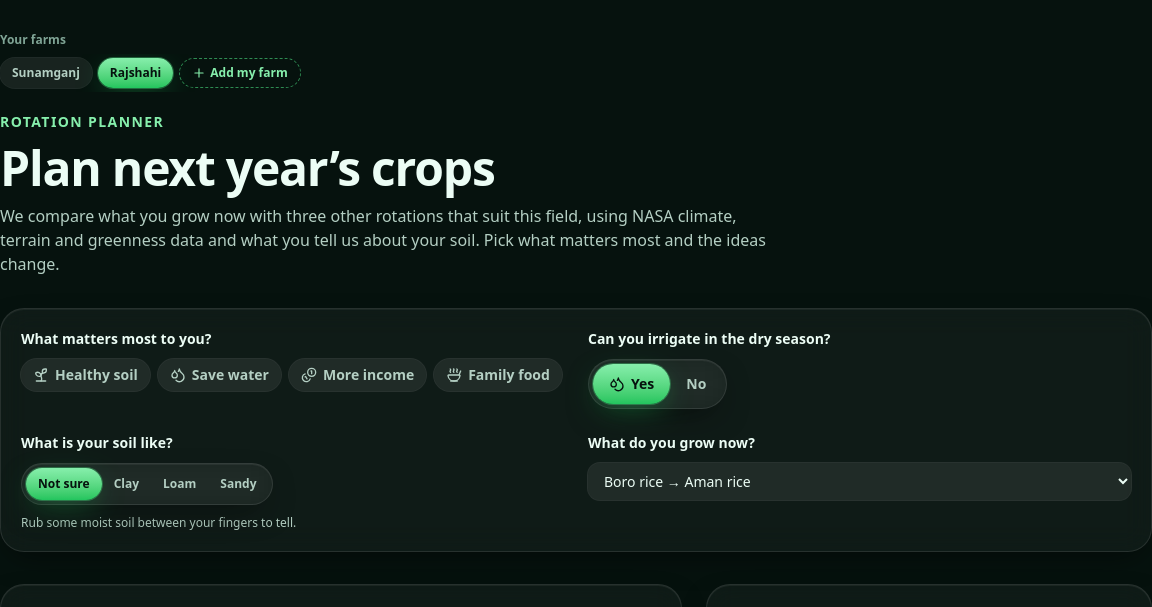
Test: RotationPage › priorities, irrigation and the current rotation each ask for new ideas
Click the button "More income": (358, 375) x1=289 y1=359 x2=426 y2=391
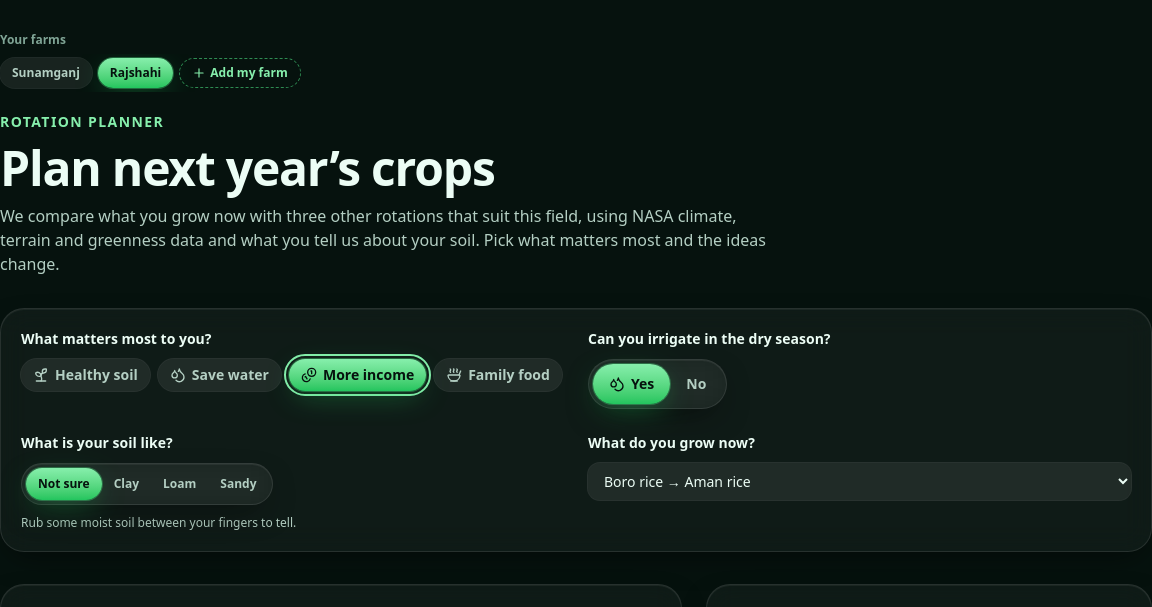
Now the button "More income" is pressed, box x1=289 y1=359 x2=426 y2=391
Click the radio button labelled "No": (696, 384) x1=670 y1=364 x2=722 y2=404
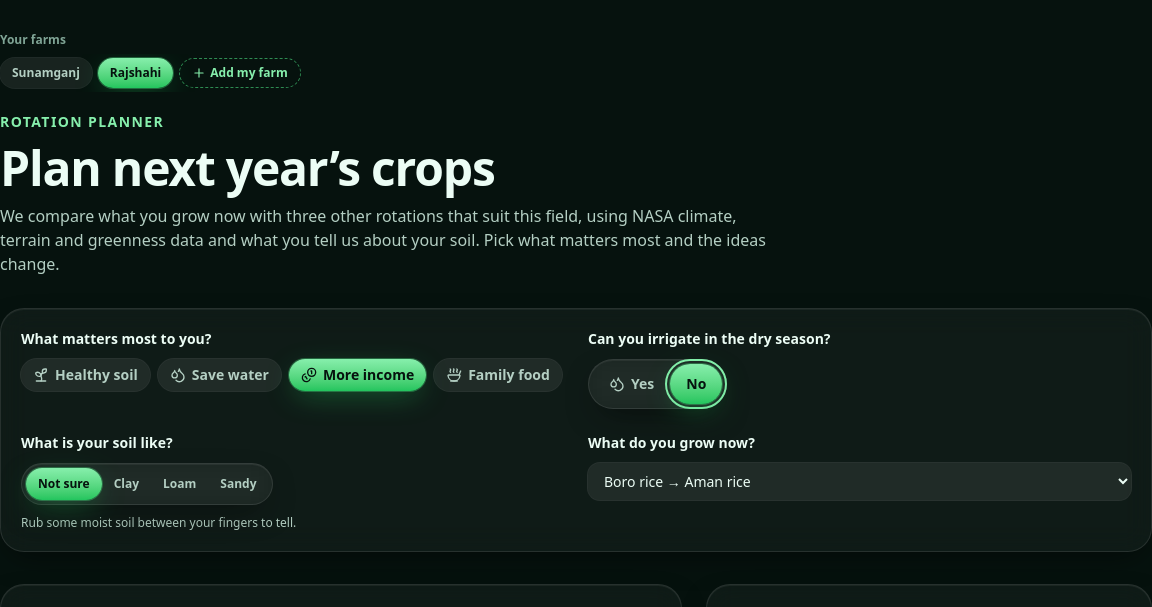
Select "Wheat → Aman rice" in the dropdown labelled "What do you grow now?": (860, 482) x1=588 y1=463 x2=1131 y2=500
(page scrolled)
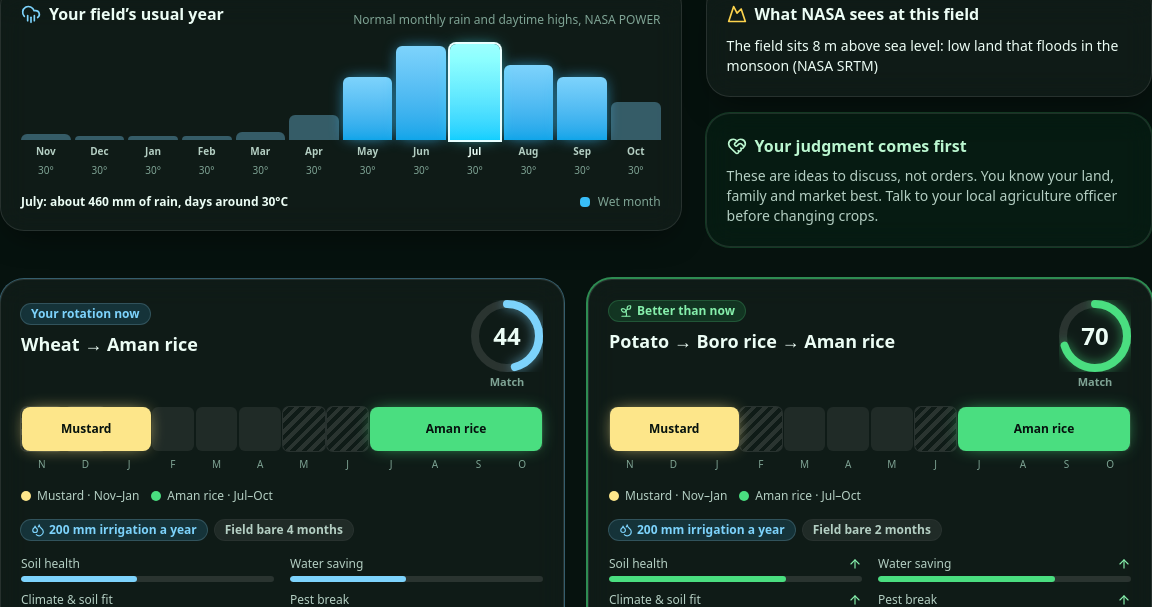
Now the heading "Wheat → Aman rice" is shown, box x1=21 y1=332 x2=198 y2=357
